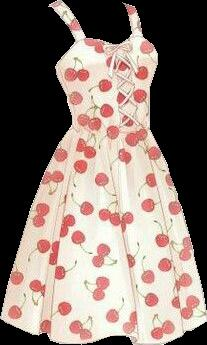Bodice: (48, 0, 157, 138)
Hemline: (0, 315, 206, 344)
Neckline: (57, 0, 134, 46)
Skirt: (0, 129, 206, 344)
Waistline: (69, 126, 151, 139)
